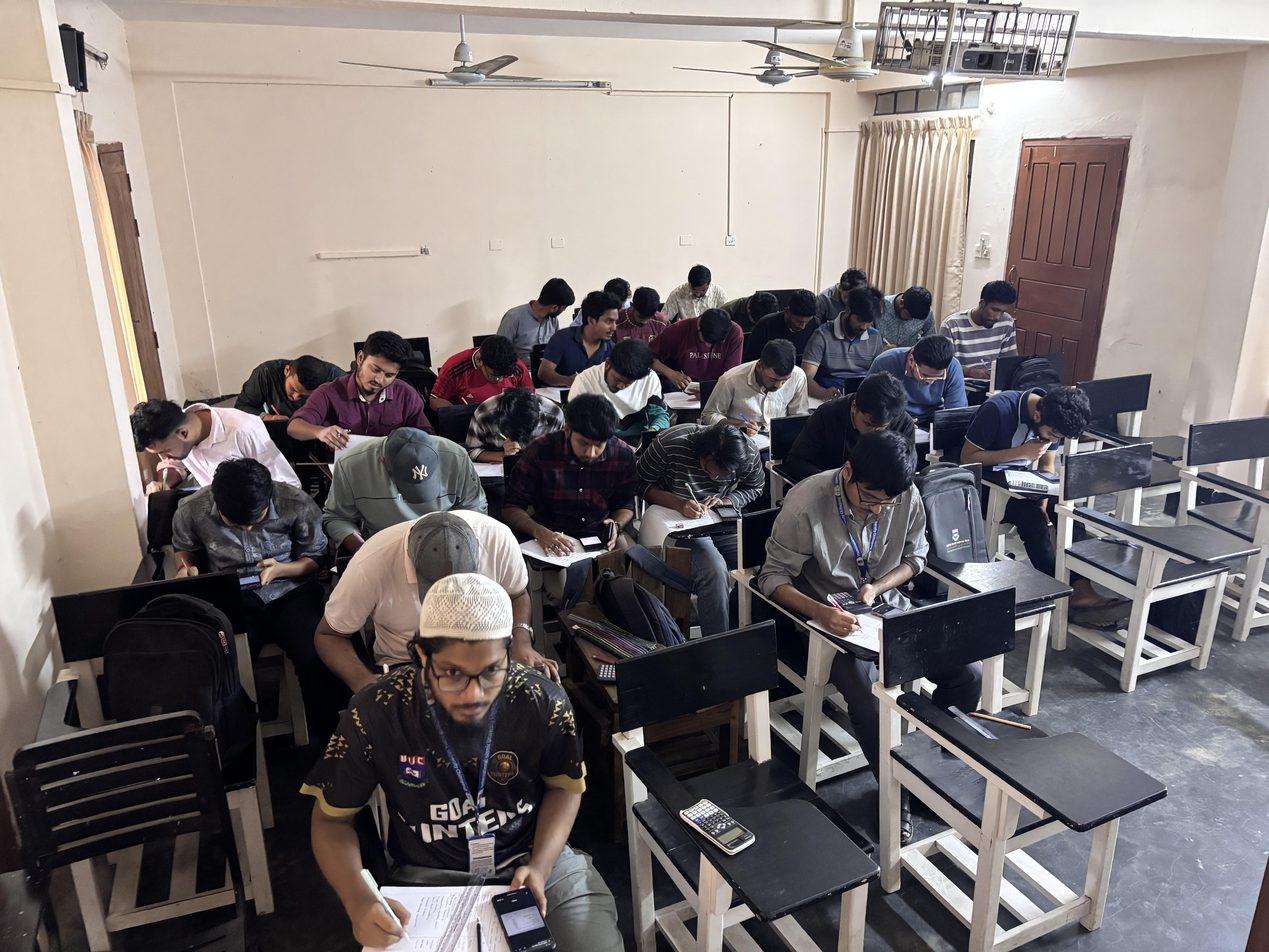copying: (541, 292, 635, 379), (502, 260, 581, 349)
no_cheating: (312, 490, 544, 612), (299, 403, 479, 524), (134, 389, 305, 501), (307, 304, 441, 443), (782, 364, 926, 466), (703, 332, 822, 436), (954, 270, 1046, 398), (641, 302, 752, 407), (449, 370, 565, 470), (866, 343, 986, 433), (240, 336, 338, 446), (424, 324, 534, 414), (818, 283, 892, 374), (669, 253, 740, 336), (753, 283, 845, 347), (620, 271, 680, 350), (883, 271, 941, 350)
using_phone: (310, 569, 624, 952), (766, 422, 958, 686), (164, 451, 323, 633), (517, 390, 643, 589), (645, 400, 775, 590), (961, 373, 1103, 521)
